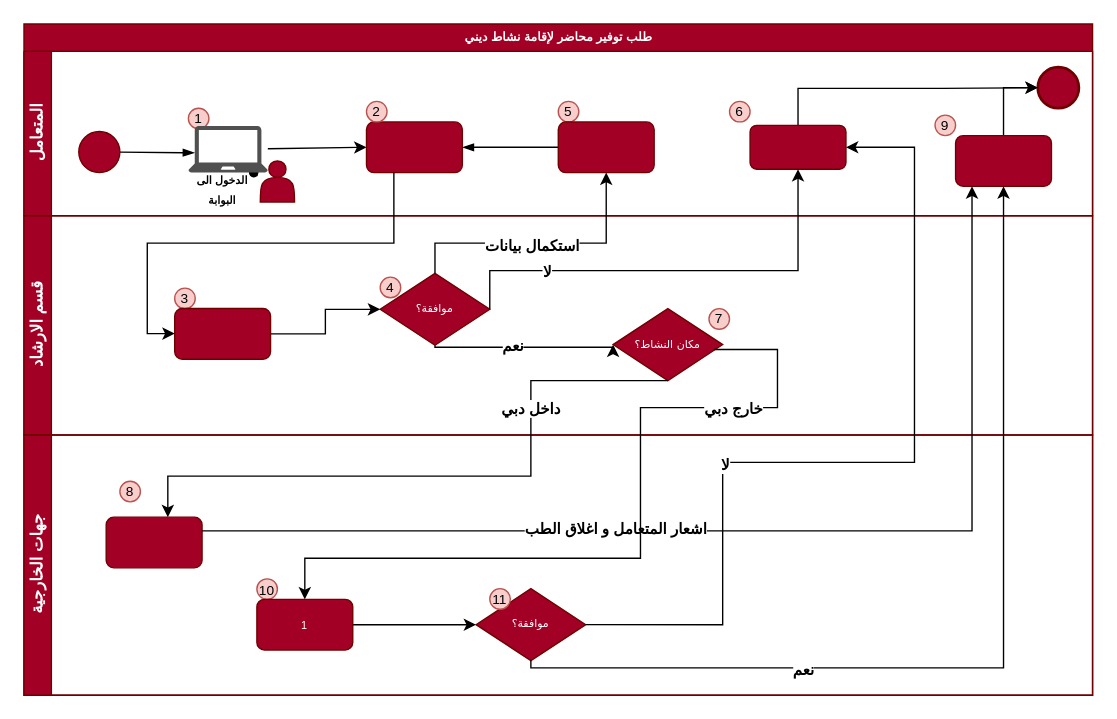
Image size: 1117x719. Some labels were removed from this diagram. Each missing label, with the centre of its shape:
"ارسال رسالة موافقة الى العميل" goes at pixel 1002 160.
"استكمال البيانات و اعادة ارسال الطلب" goes at pixel 605 147.
"اشعار الجهات الخارجية بالبريد الالكتروني" goes at pixel 153 542.
"اغلاق" goes at pixel 1058 87.
"بداية" goes at pixel 98 151.
"تعبئة و نموذج طلب توفير محاضر لإقامة نشاط ديني" goes at pixel 413 147.
"رسالة إعتذار إلى العميل" goes at pixel 797 146.
"مراجعة الطلب" goes at pixel 222 333.
